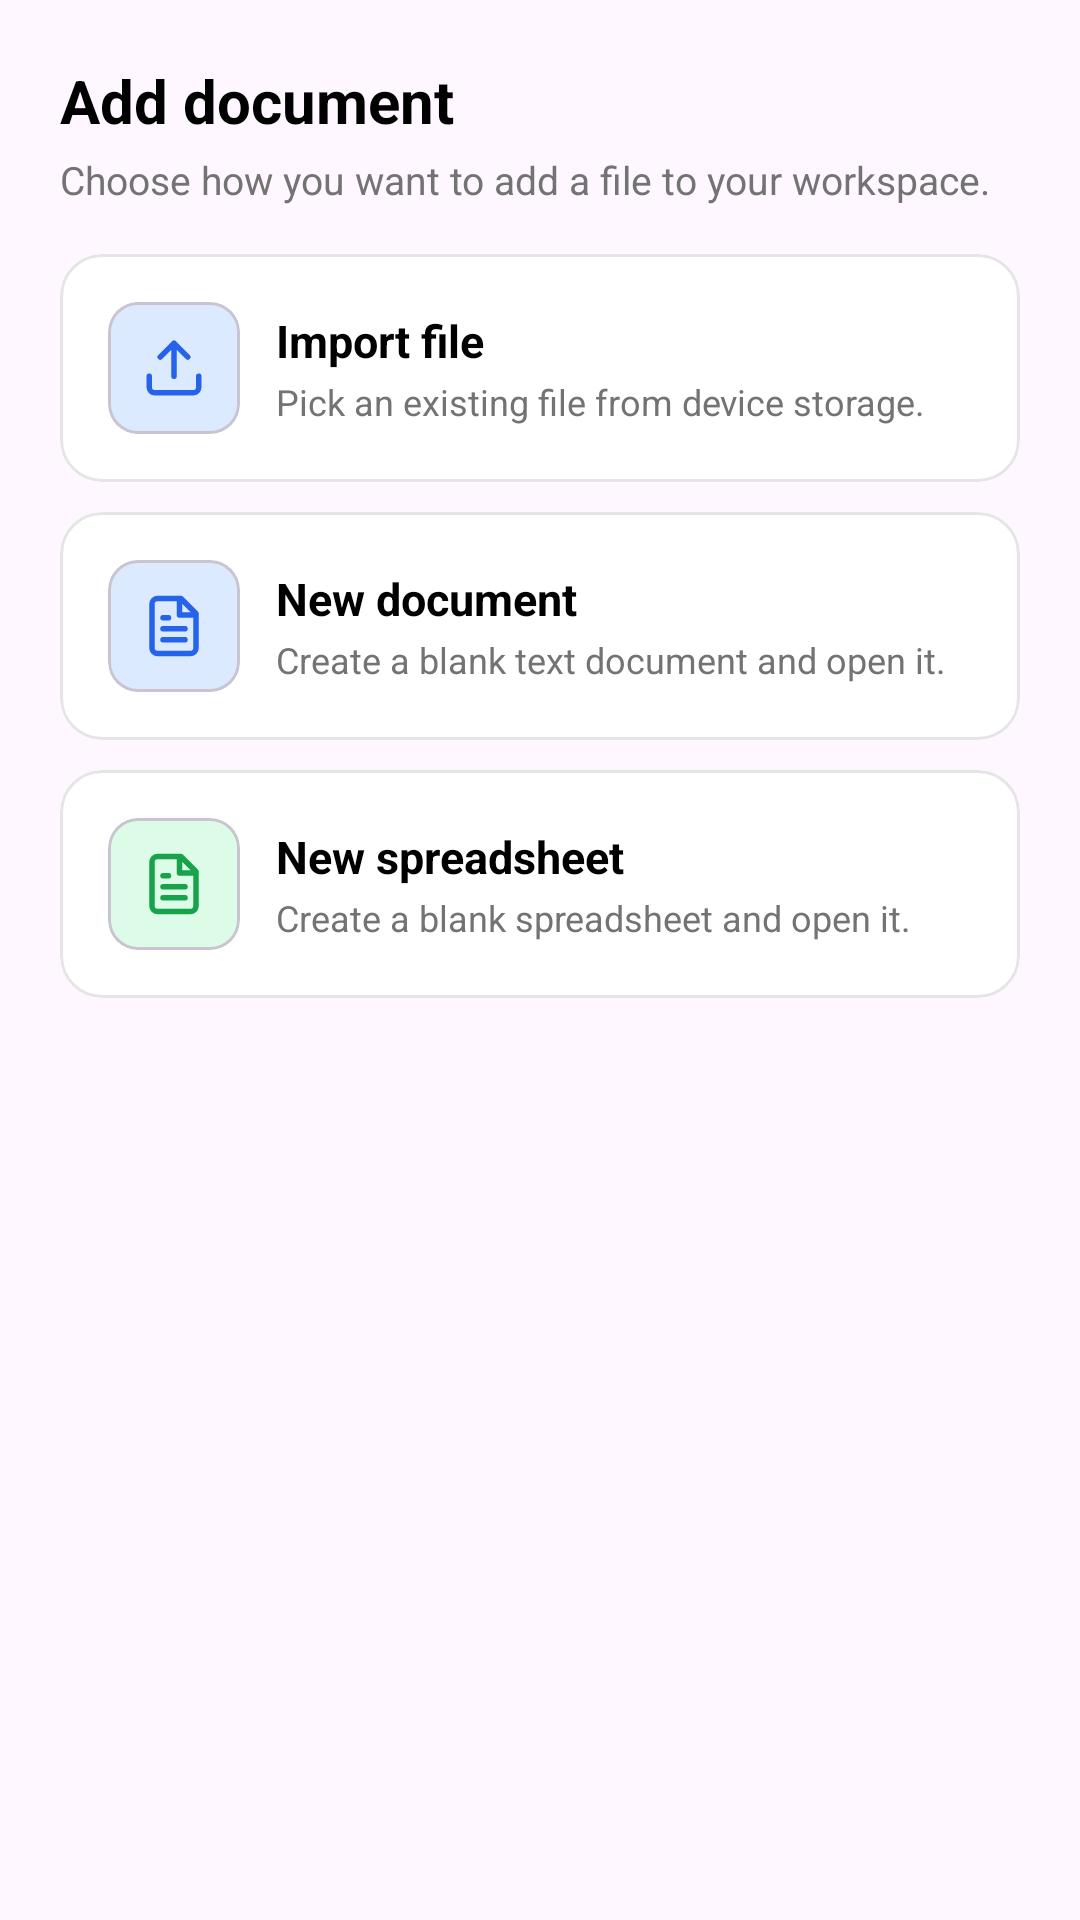

Icons on this 1080×1920 Android screen, each with the point to tap as [x,y]:
file text: [174,626]
upload: [174,368]
